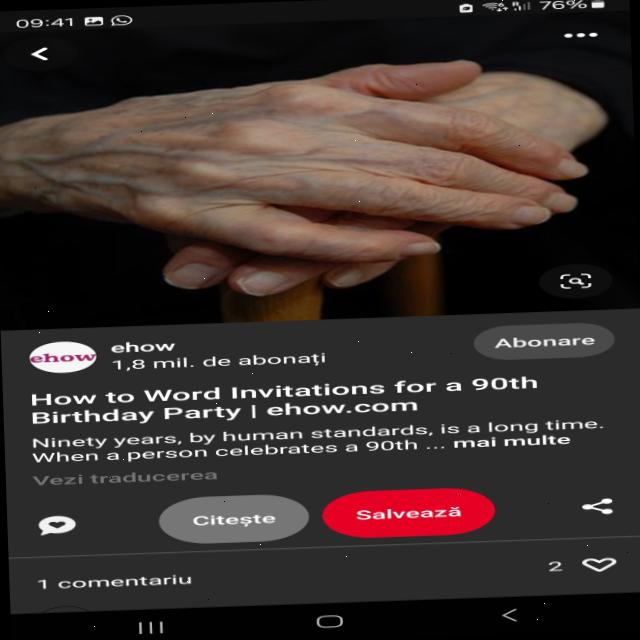hands: (21, 48, 606, 310)
